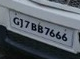6: (61, 32, 68, 42), (55, 30, 62, 39), (49, 29, 55, 37)
7: (24, 19, 30, 29), (44, 26, 50, 36)
B: (30, 21, 37, 32), (37, 24, 44, 34)
G: (11, 16, 21, 27)
J: (19, 17, 24, 29)
